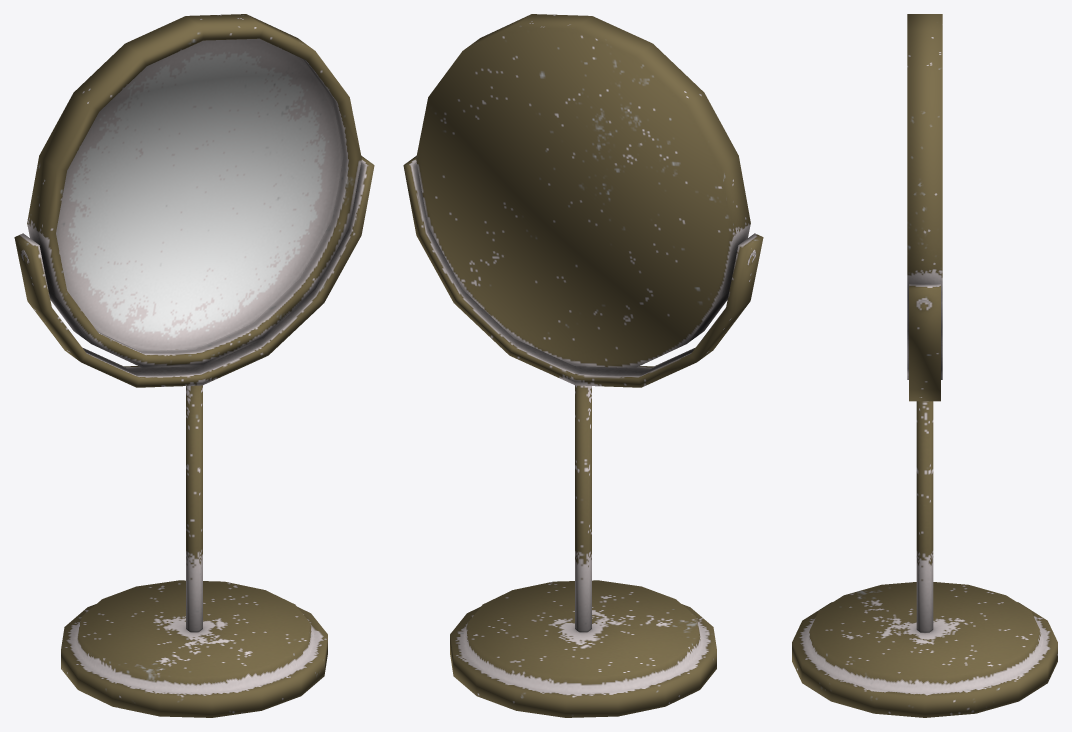
The model's file is zrcadlo.fbx.
3 renders of one model, left to right at view 1: azimuth 30°, elevation 25°; view 2: azimuth 150°, elevation 25°; view 3: azimuth 270°, elevation 25°, orthographic.
Visible parts, largest first — view 1: zrcadlo; view 2: zrcadlo; view 3: zrcadlo.
Boxes of the visible parts, <box> form: zrcadlo: <box>14,14,374,717</box>; zrcadlo: <box>403,14,763,717</box>; zrcadlo: <box>792,14,1057,717</box>.
Size of the model in its own units: 136 by 241 by 92.03.
